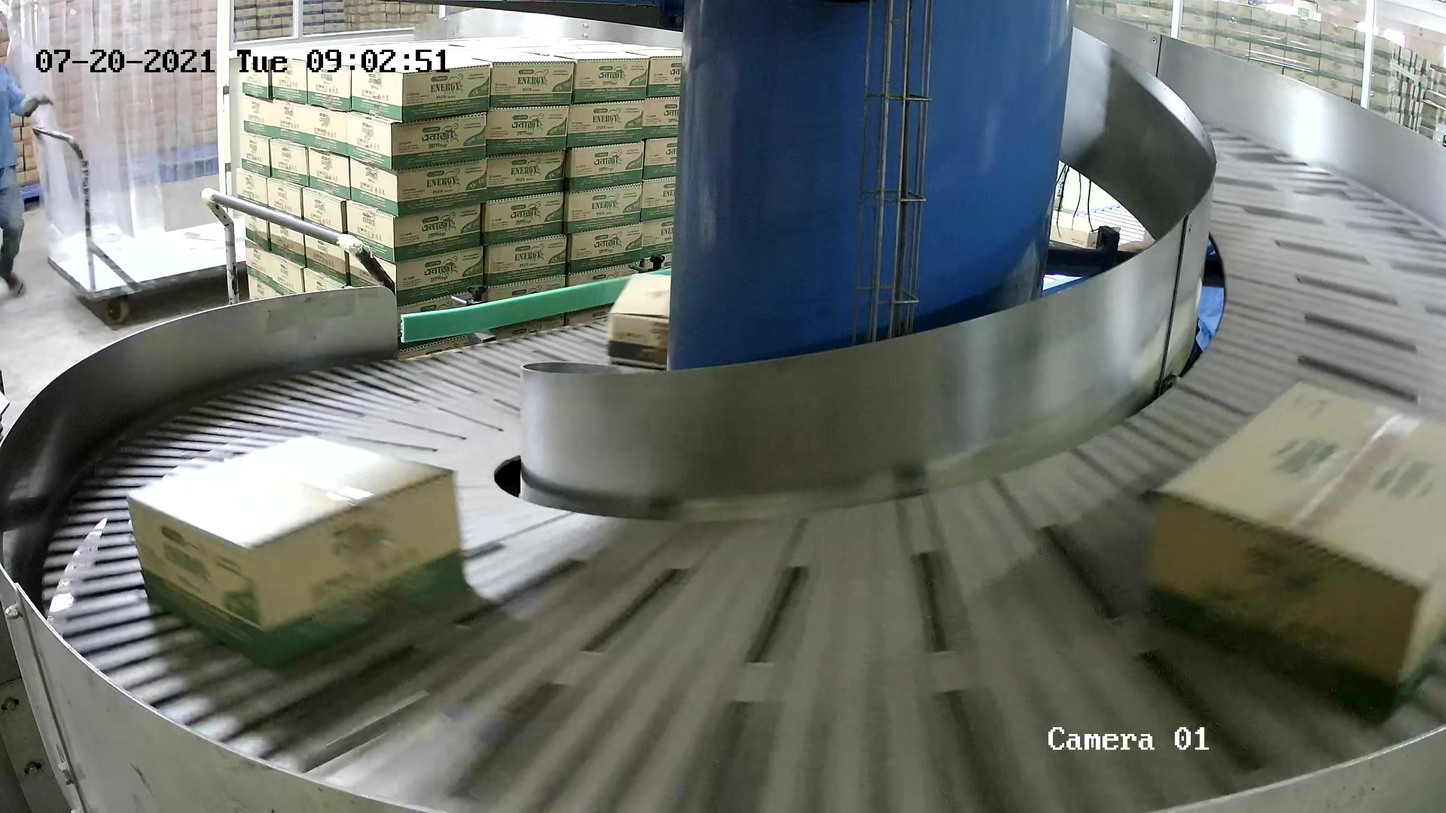Box: (1141, 376, 1446, 726), (128, 431, 469, 675), (606, 271, 720, 382)
